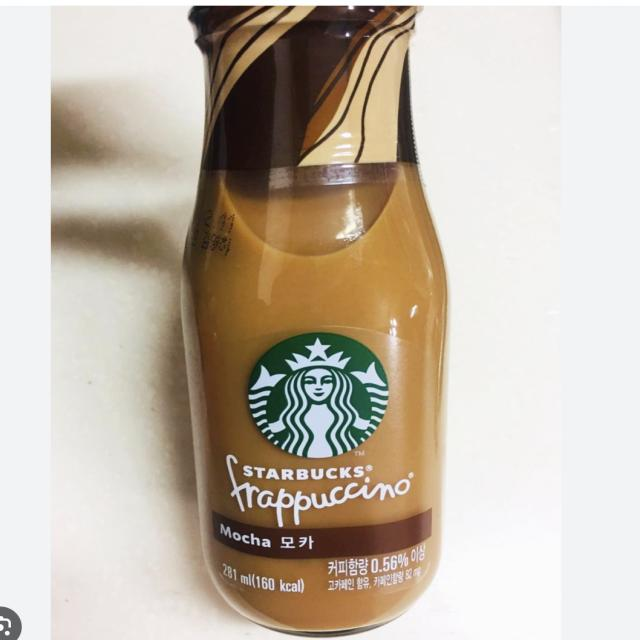recyclable: (170, 0, 476, 622)
